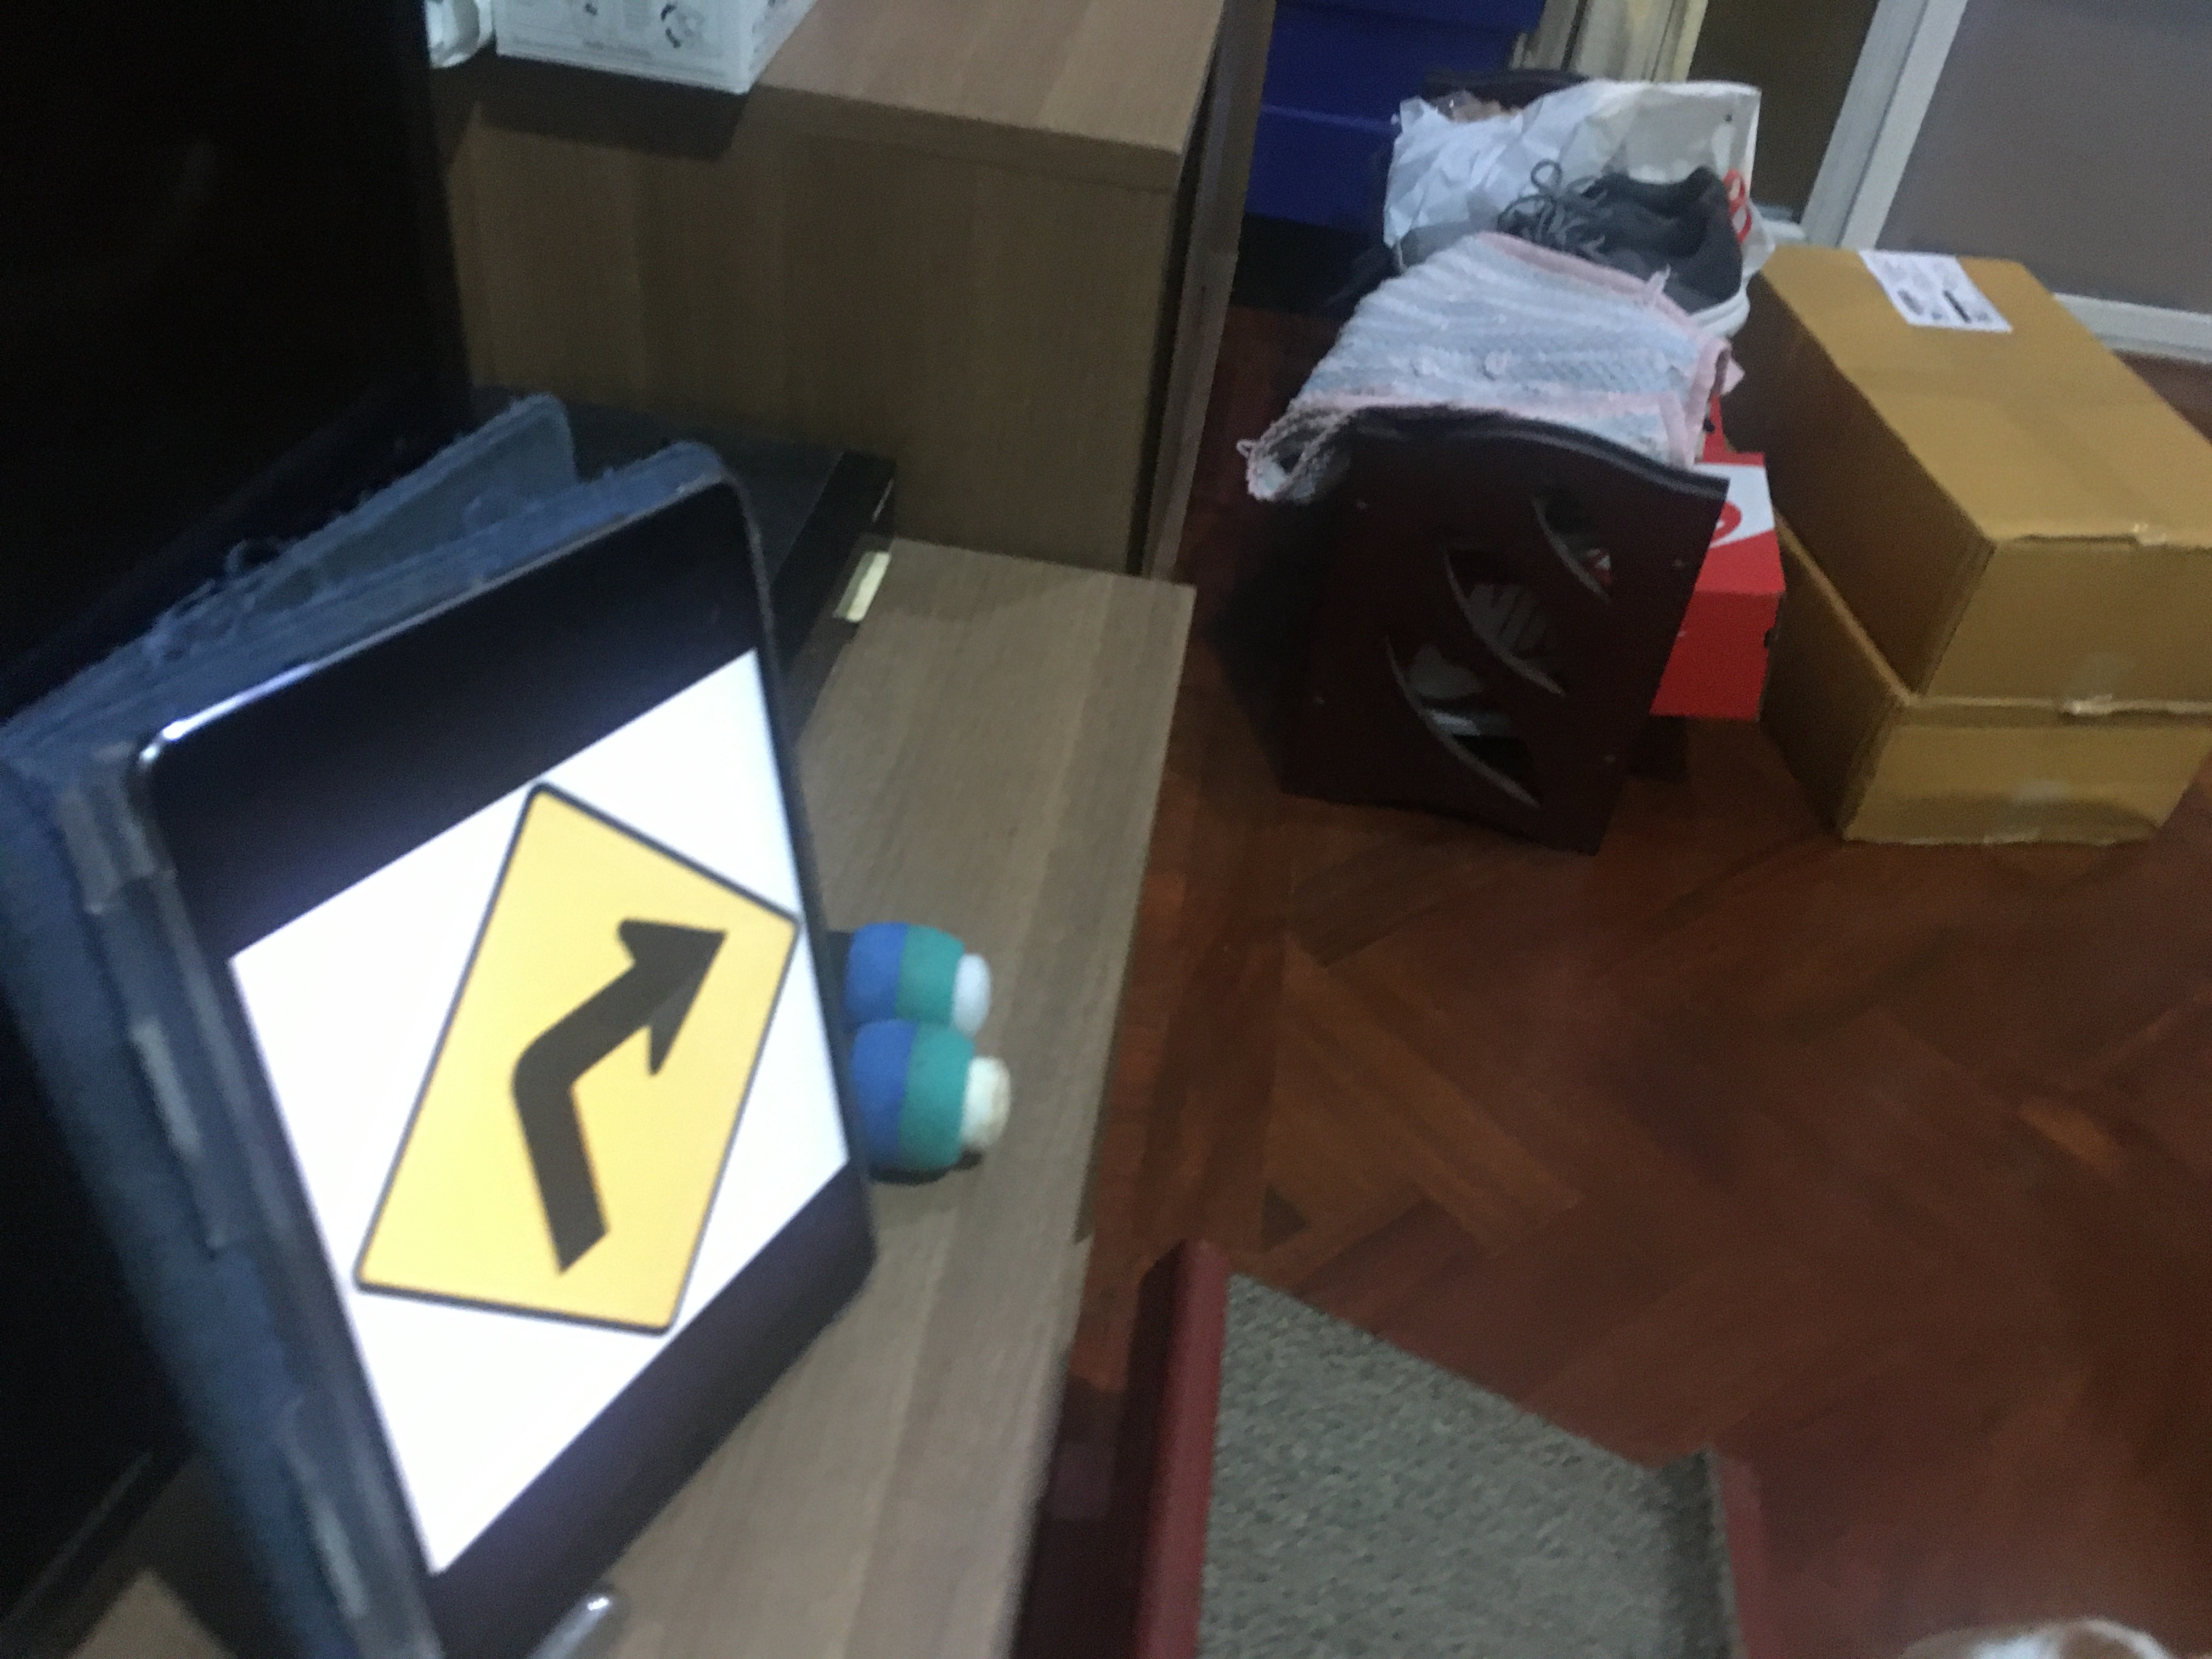right: (328, 780, 803, 1366)
